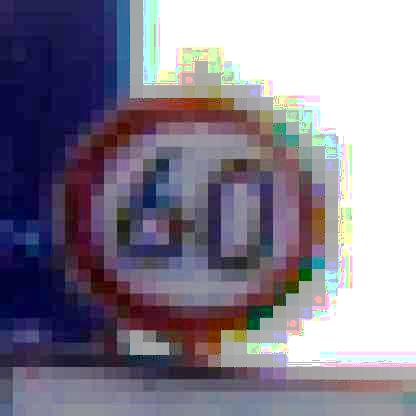Speed Limit -60-: (52, 80, 348, 340)
